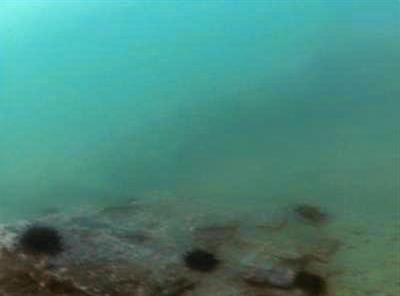urchin: (16, 223, 67, 255), (294, 265, 330, 296), (181, 245, 218, 271), (295, 201, 329, 226)
